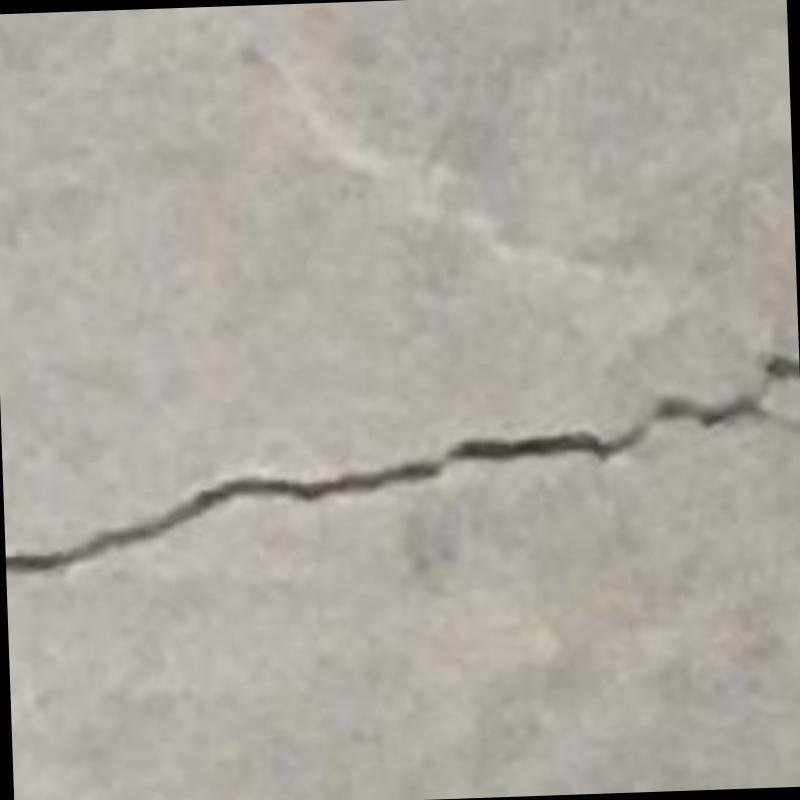crack: (6, 353, 800, 574)
